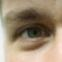eye: (28, 29, 42, 37)
